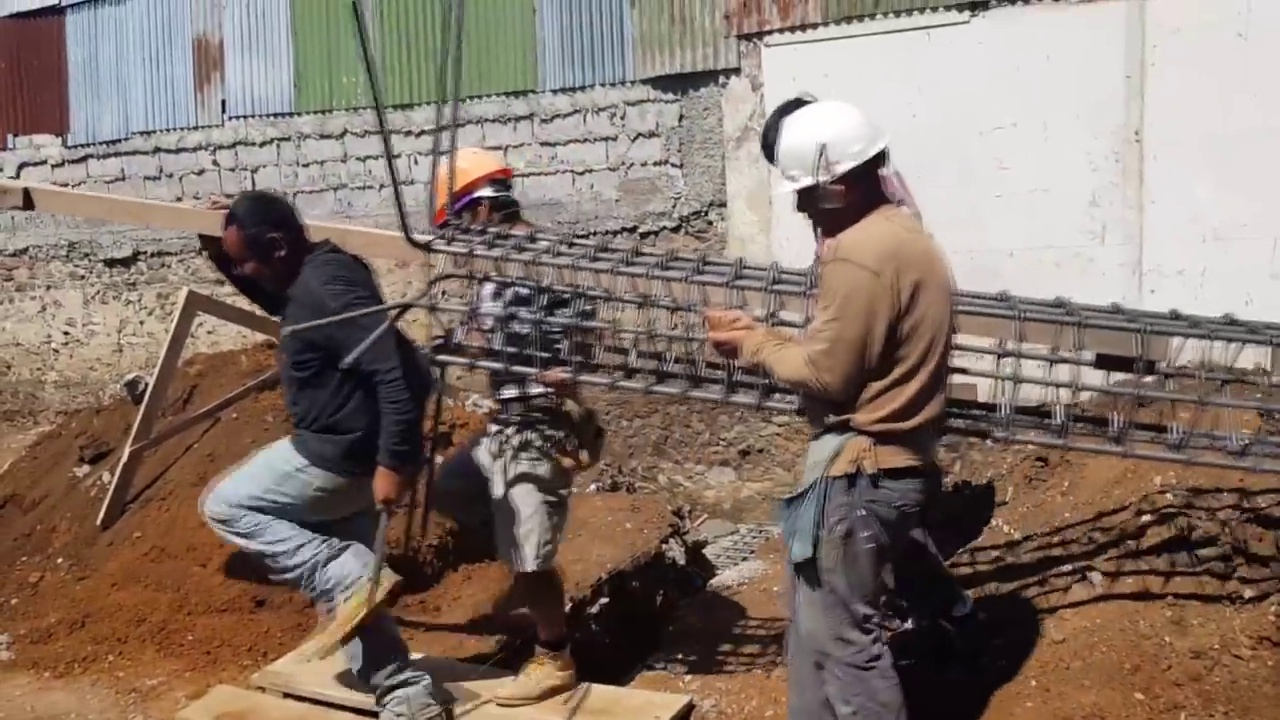helmet: (775, 100, 890, 195), (429, 150, 516, 222)
helmet-off: (219, 188, 308, 293)
helmet-on: (775, 100, 891, 243), (429, 142, 532, 236)
person: (710, 94, 952, 718), (200, 182, 438, 717), (429, 136, 588, 710)
